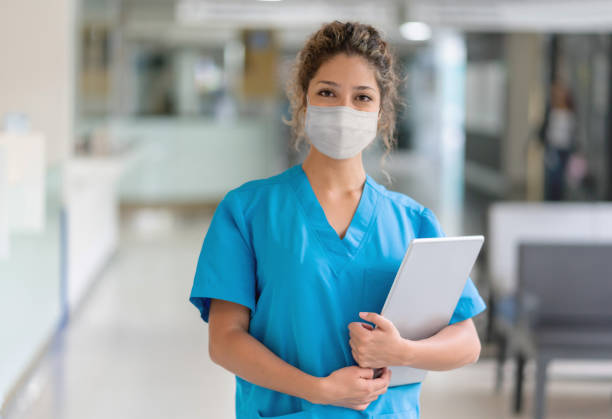with mask: (289, 31, 392, 163)
